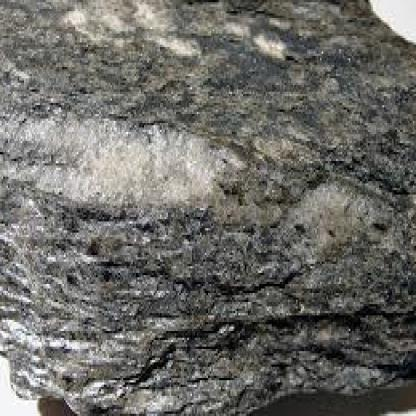Metamorphic_Quartize: (1, 0, 414, 414)
